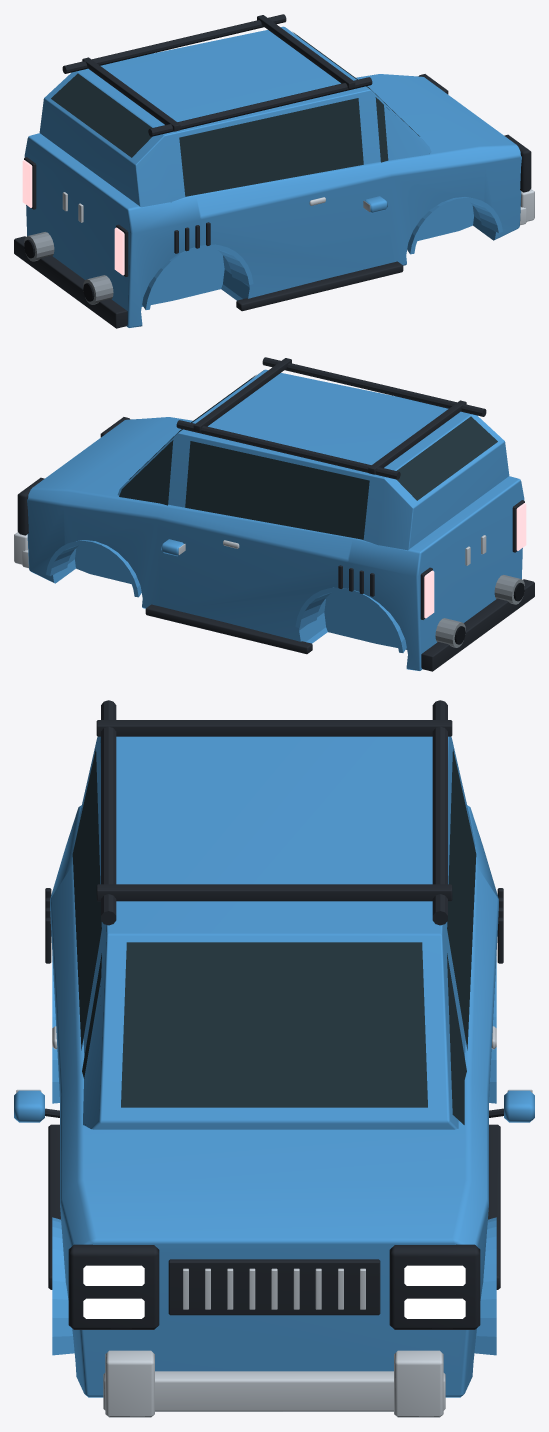
File: merc.glb
3 views of the same model, one above another, from view 1: azimuth 30°, elevation 25°; view 2: azimuth 150°, elevation 25°; view 3: azimuth 270°, elevation 25° (orthographic). The views are drawn at different scales.
Parts seen in each view (by area): view 1: body-paint, body-details; view 2: body-paint, body-details; view 3: body-paint, body-details.
Part boxes in pixels (<box>): body-paint: <box>24,26,521,327</box>; body-details: <box>14,14,534,328</box>; body-paint: <box>27,369,524,670</box>; body-details: <box>14,357,534,671</box>; body-paint: <box>14,736,534,1397</box>; body-details: <box>16,700,532,1417</box>.
Size of the model in its own units: 1.44 by 0.6045 by 0.776.
